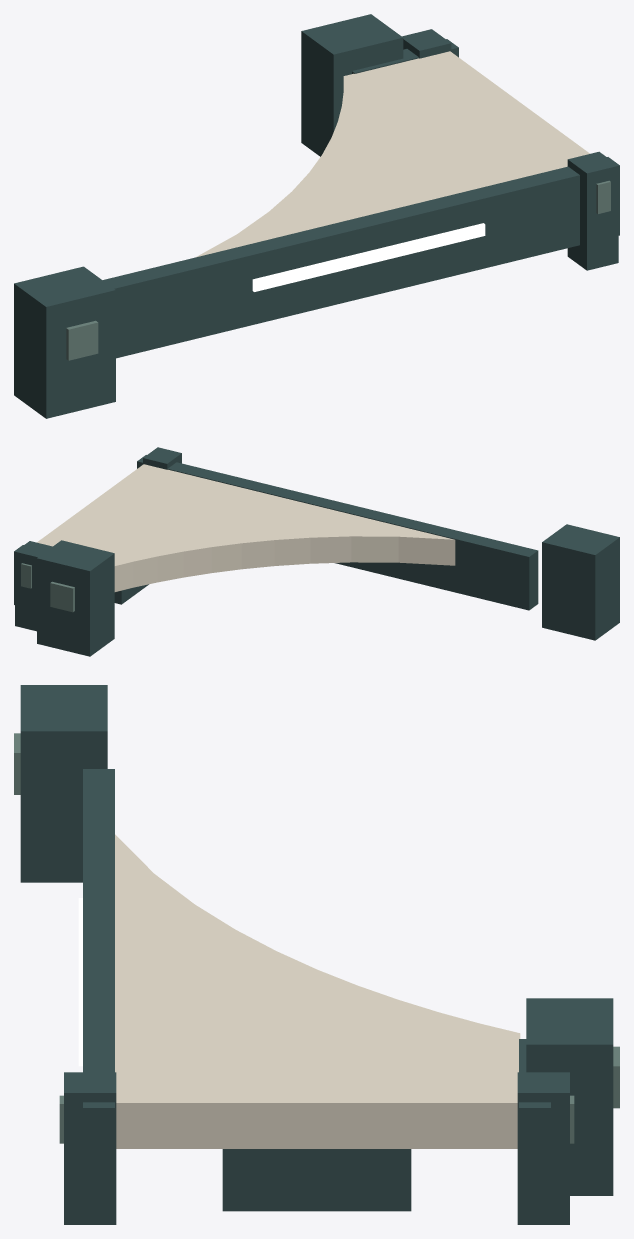
The model's file is Pier_Angled_45_lab.glb.
3 renders of one model, top to bottom at view 1: azimuth 30°, elevation 25°; view 2: azimuth 150°, elevation 25°; view 3: azimuth 270°, elevation 25°, orthographic. The views are drawn at different scales.
Visible parts, largest first — view 1: Pier_Angled_45; view 2: Pier_Angled_45; view 3: Pier_Angled_45.
Part boxes in pixels (box(x1,y1,x2,y2)): Pier_Angled_45: box(14, 14, 619, 418); Pier_Angled_45: box(14, 447, 619, 656); Pier_Angled_45: box(14, 685, 619, 1224).
Size of the model in its own units: 6.42 by 1.15 by 4.17.
